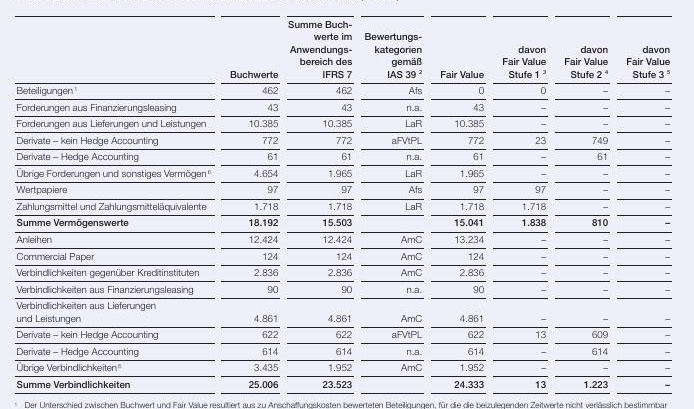table: (0, 0, 694, 409)
